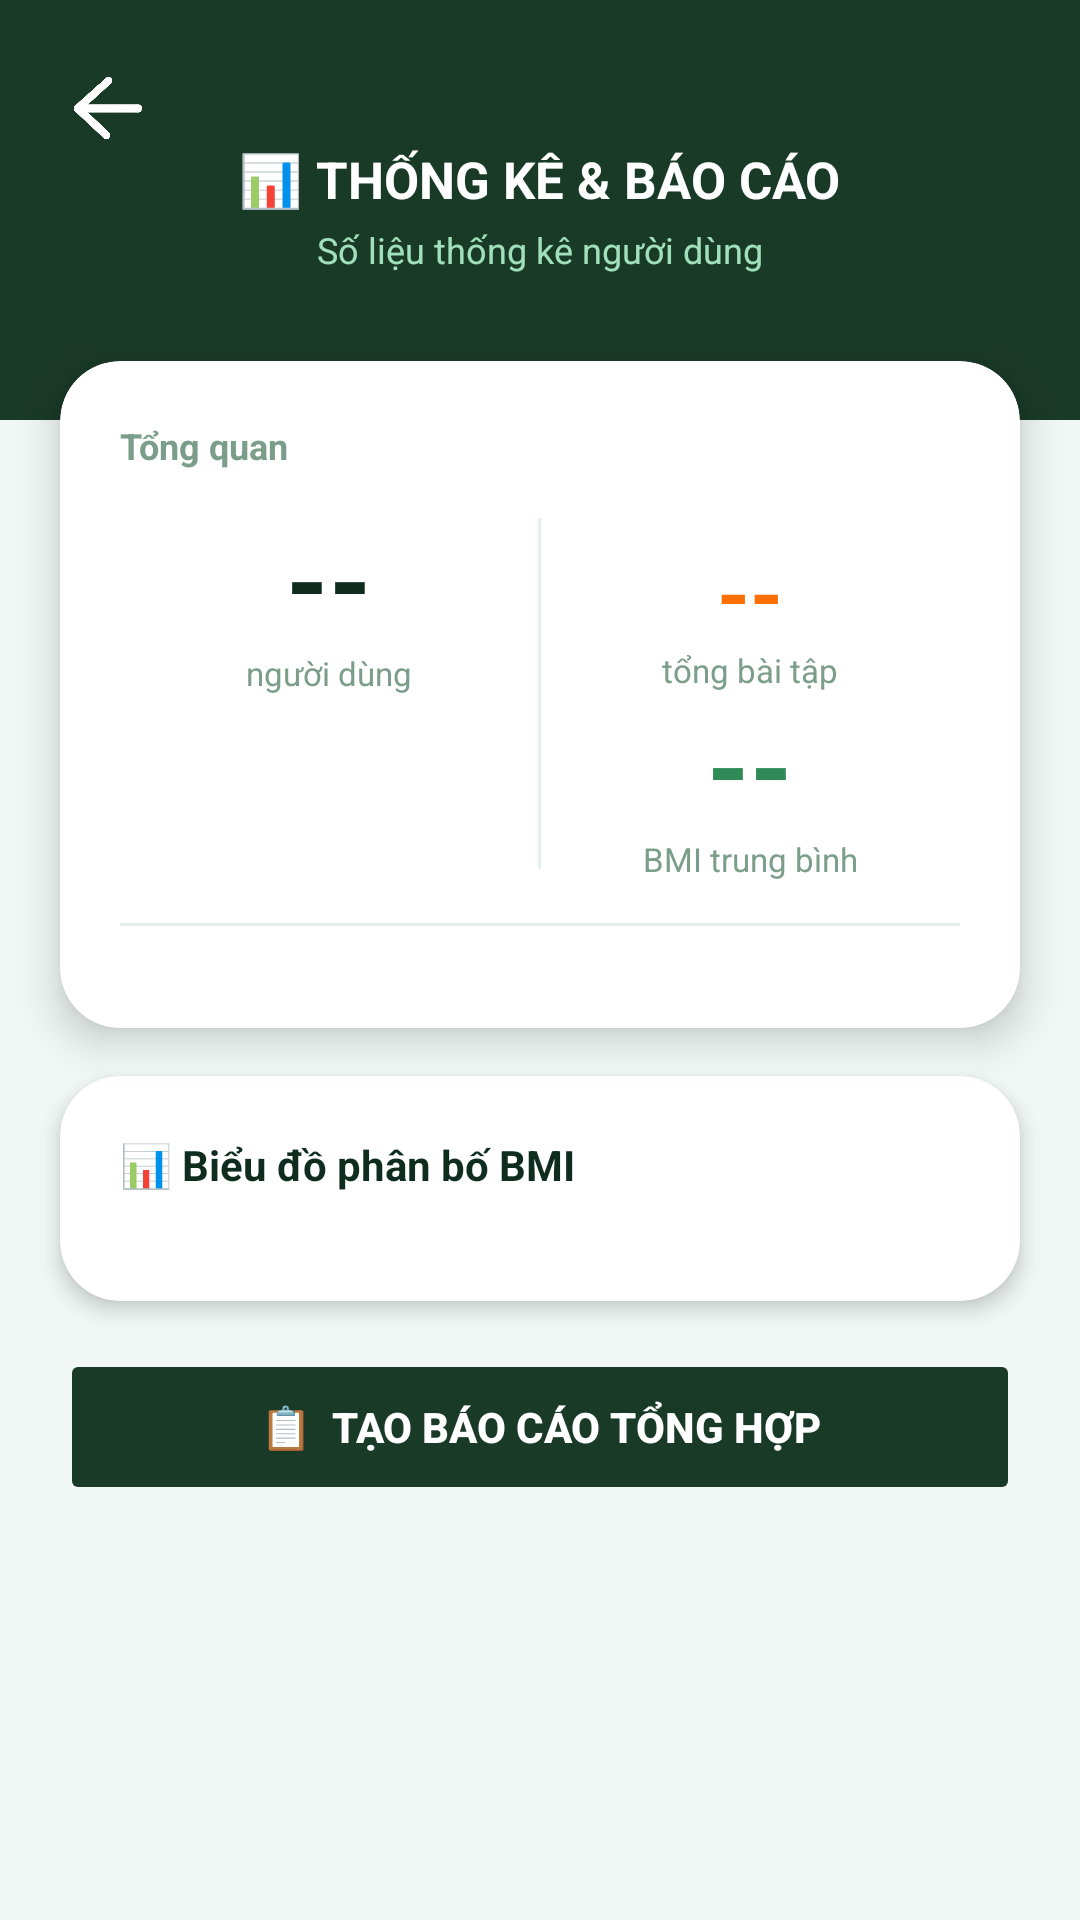

Icons on this 1080px x 1920px Android screen, each with the point to tap as [x,y]:
arrow back: [108,108]
